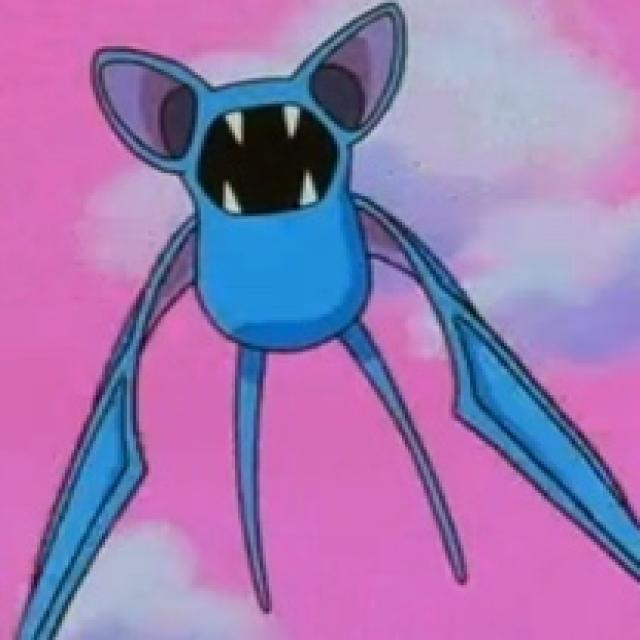Zubat: (72, 12, 475, 532)
